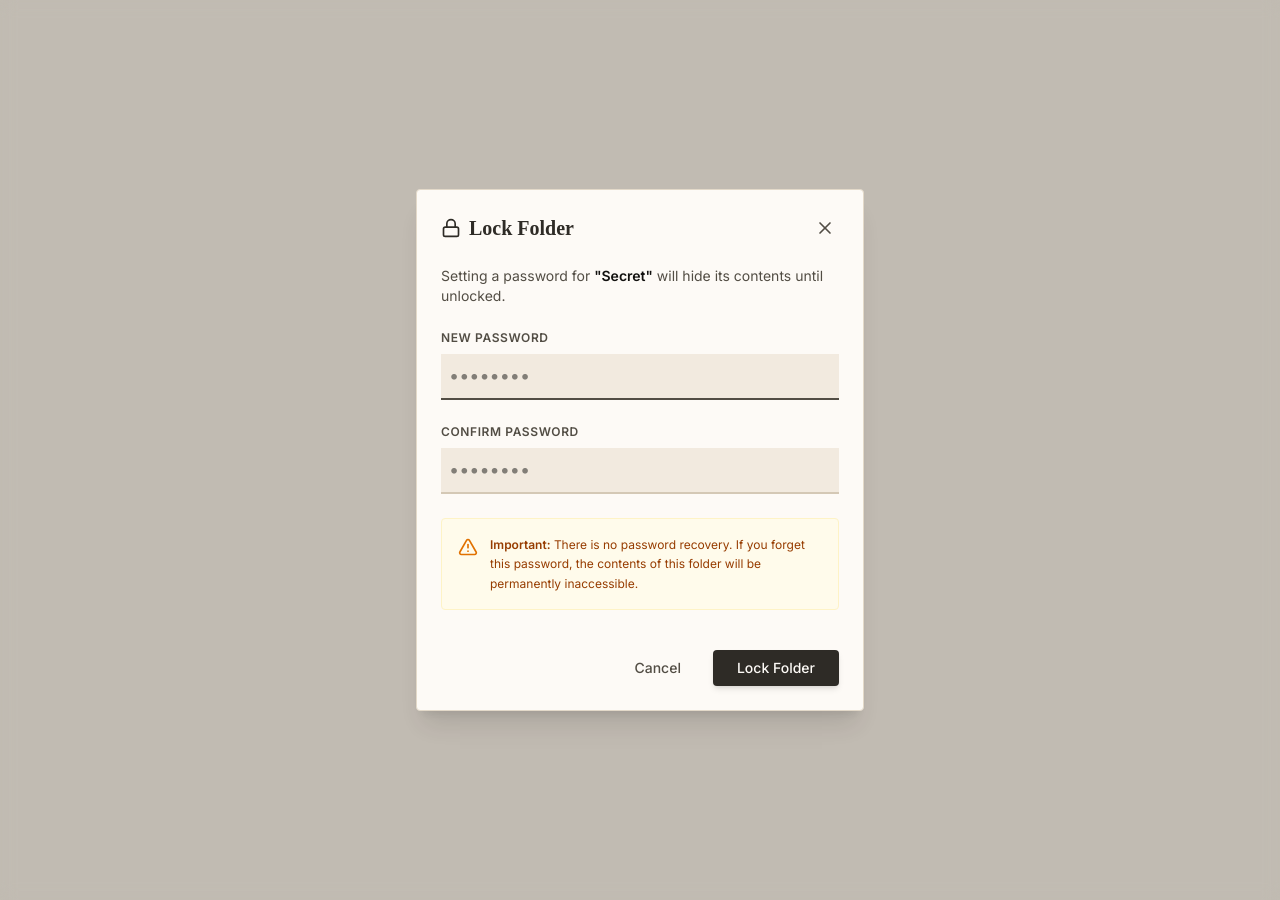
Test: LockFolderModal › should show error when passwords do not match
Type "password123" into the password field with placeholder "••••••••" below "New Password" at (640, 377), box [441,354,839,400]
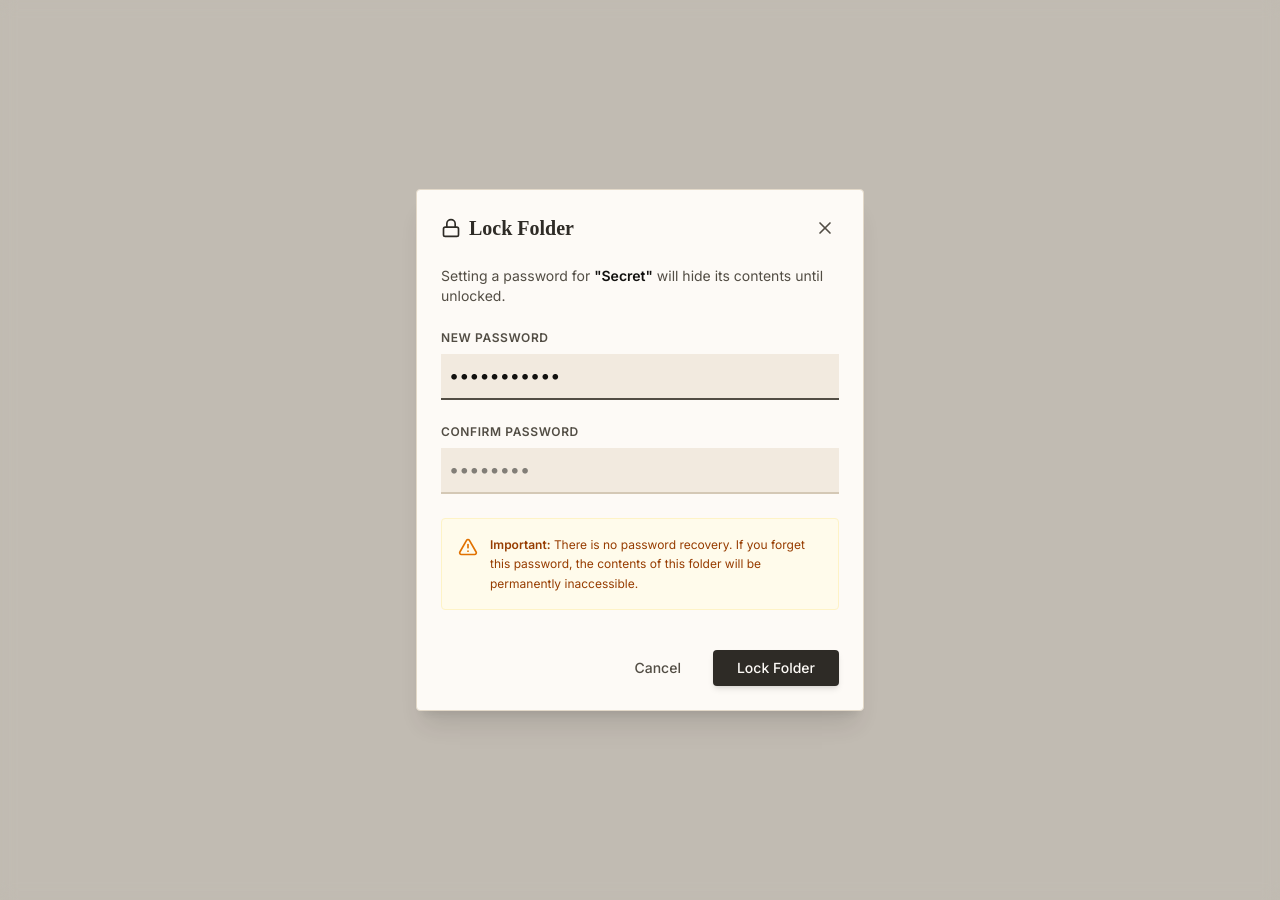
Type "password456" into the password field with placeholder "••••••••" at (640, 471), box [441,448,839,494]
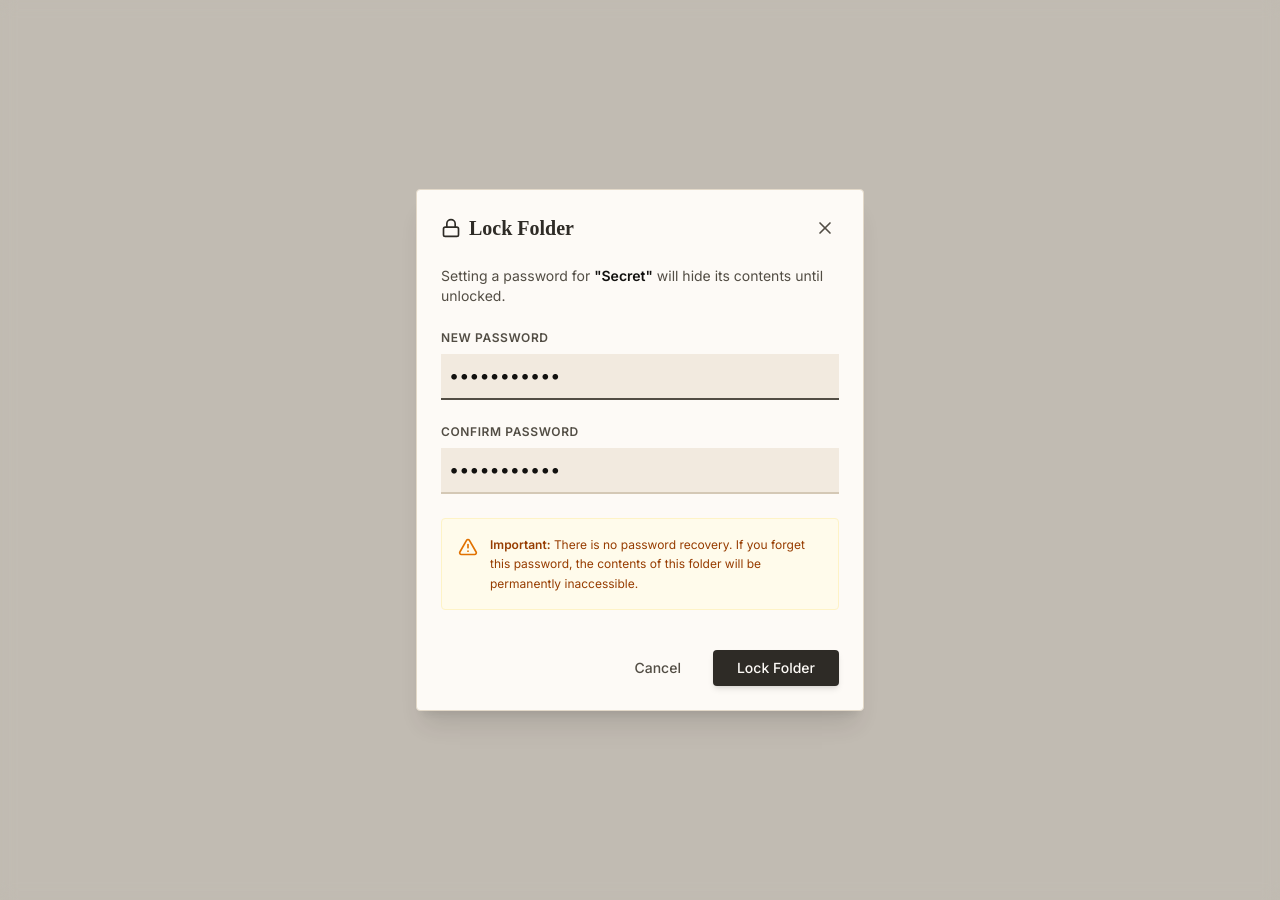
Target the submit button specifically
Click the button "Lock Folder" at (776, 668), box [713,650,839,686]
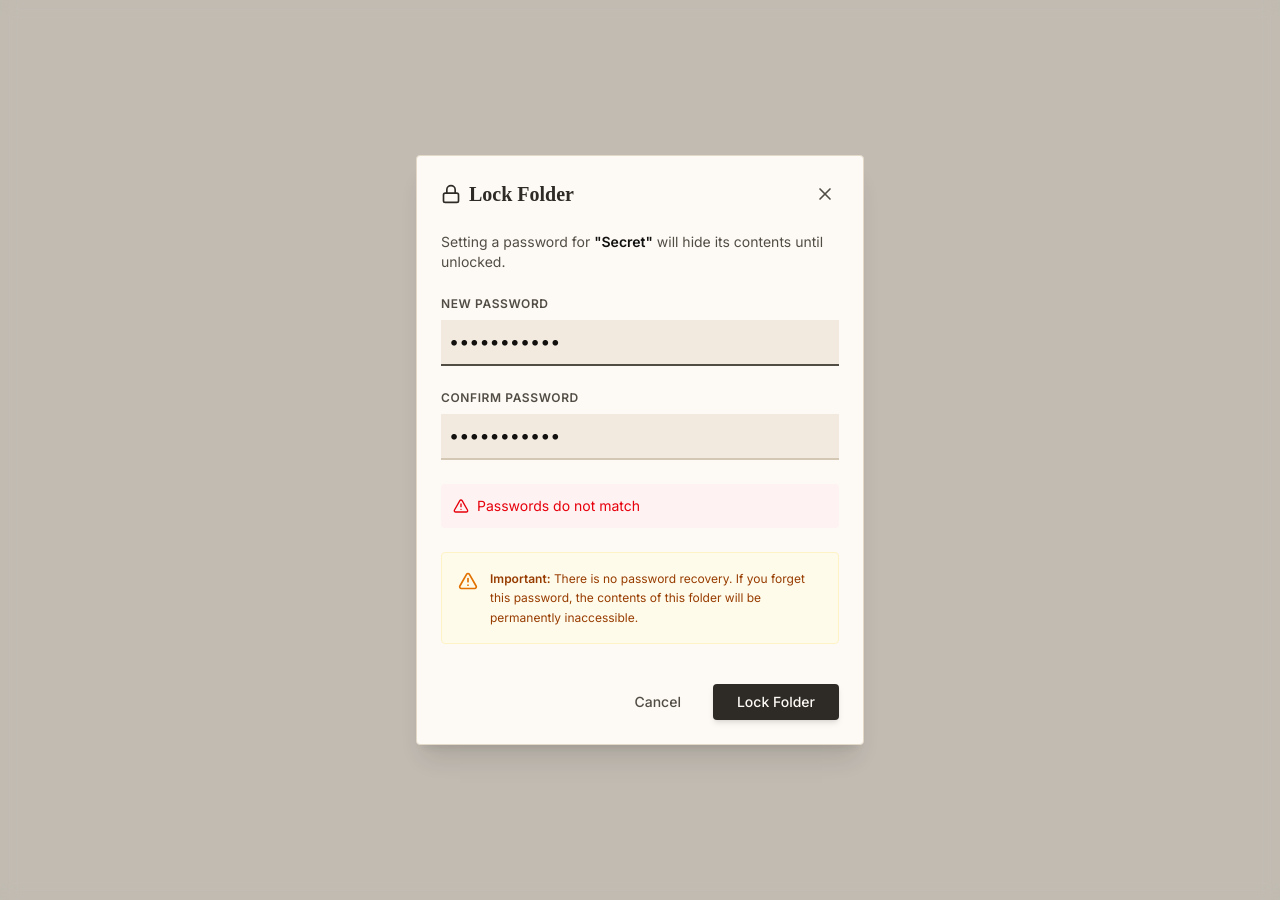
Expected: the text "Passwords do not match" is shown, [441,484,839,528]
